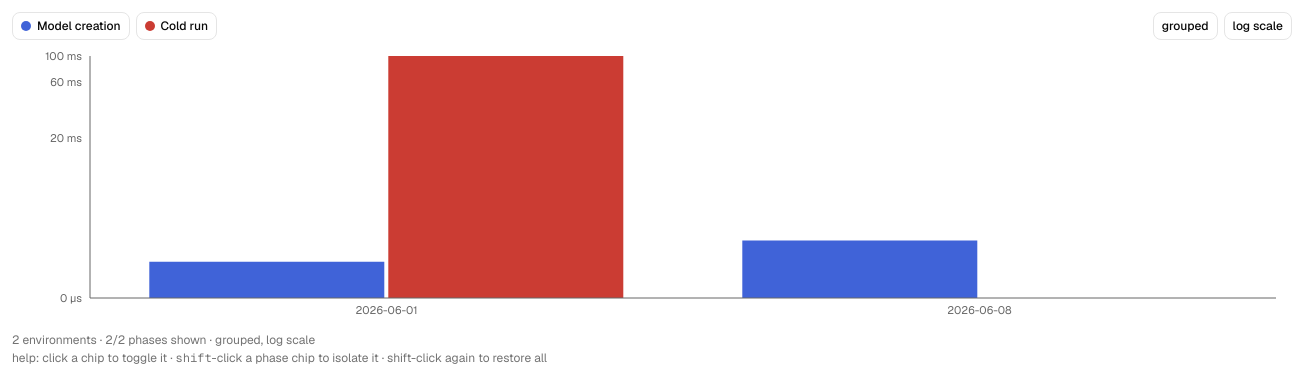
PhaseBreakdownChart › toggles individual phases off and on
Click the button "Cold run". click: coordinates (176, 26)
box: [136, 12, 217, 40]
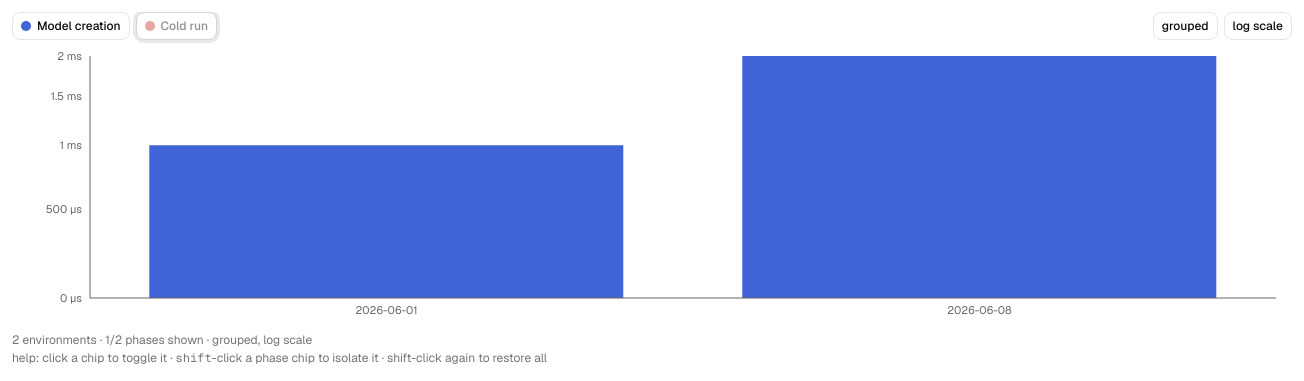
Result: the text "2 environments · 1/2 phases shown · grouped, log scale" is shown at [12, 332, 312, 348]
Click the button "Cold run". click: coordinates (176, 26)
box: [136, 12, 217, 40]
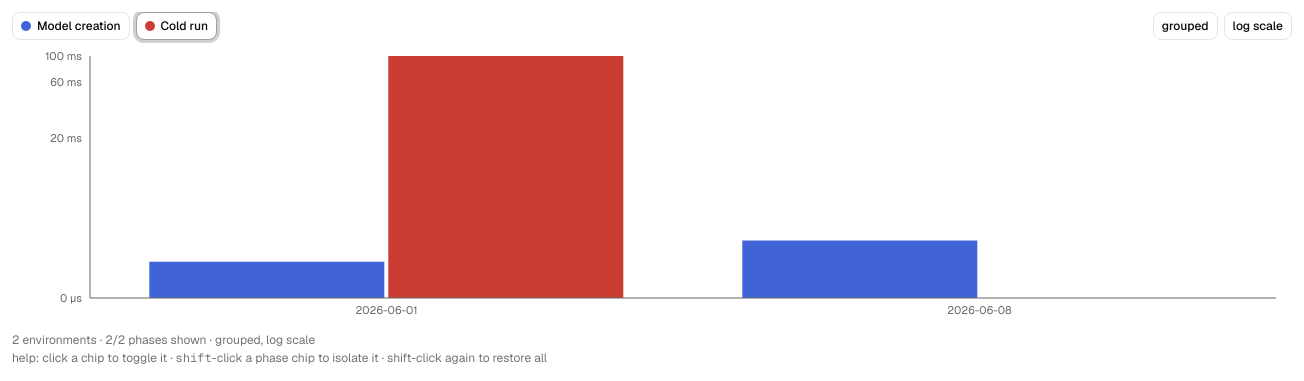
Result: the text "2 environments · 2/2 phases shown · grouped, log scale" is shown at [12, 332, 315, 348]
